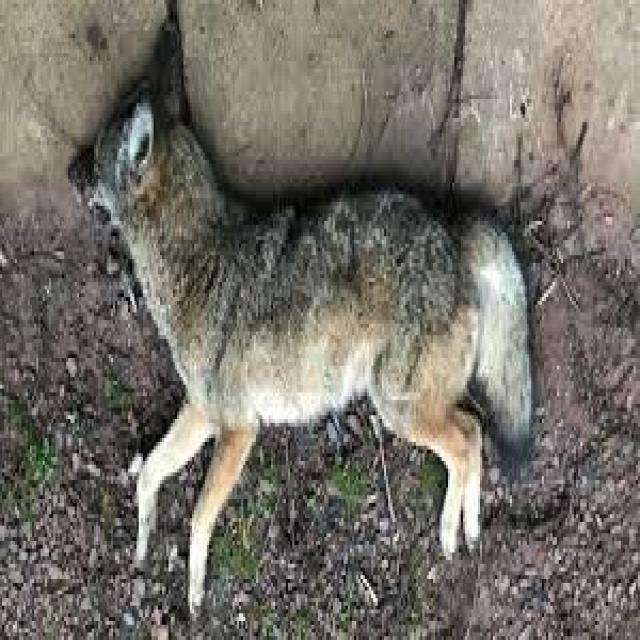Coyote: (82, 88, 537, 610)
